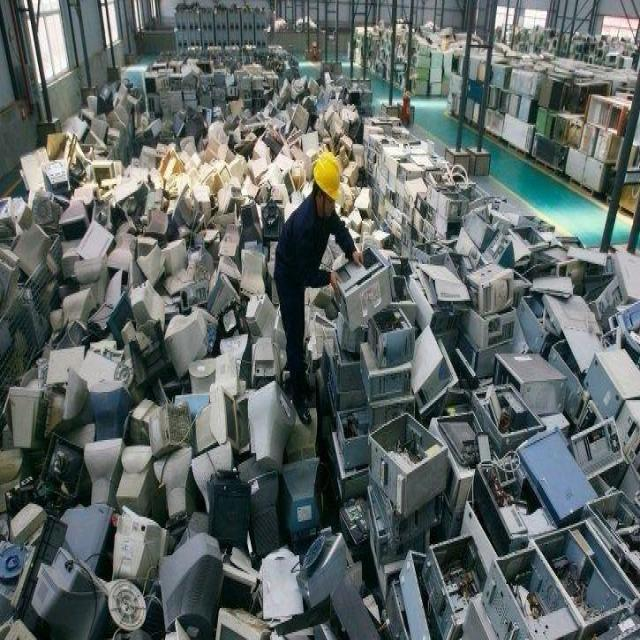hazard: (4, 68, 634, 640)
